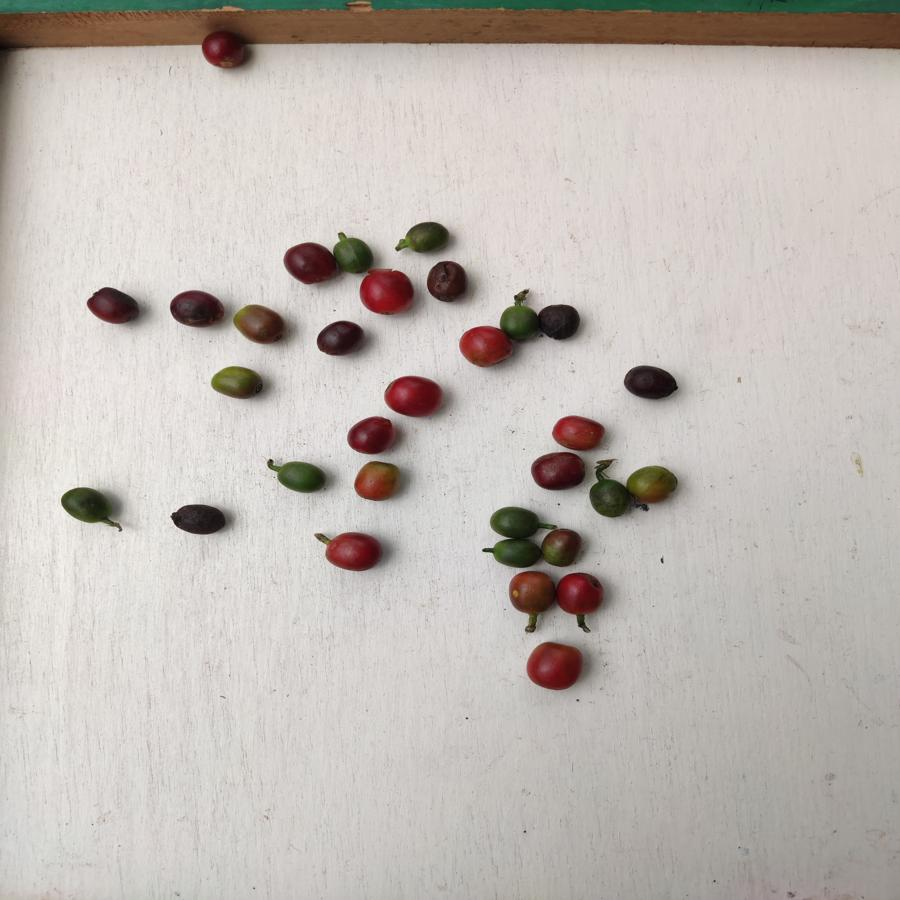Inmaduro: (60, 487, 114, 527), (273, 460, 328, 496), (330, 236, 374, 276), (486, 538, 540, 570), (588, 477, 628, 520), (403, 220, 451, 255), (489, 505, 538, 538), (498, 304, 538, 343)
Maduro: (523, 641, 588, 699), (358, 268, 418, 319), (323, 528, 383, 578), (386, 374, 446, 420), (455, 323, 504, 373), (558, 569, 604, 617), (550, 413, 605, 452), (346, 414, 396, 455)
Pinton: (208, 360, 269, 403), (231, 304, 292, 347), (626, 463, 683, 505), (509, 569, 558, 617), (354, 461, 403, 503), (539, 527, 585, 568)
Sobremaduro: (88, 283, 142, 328), (533, 448, 588, 492), (284, 238, 333, 287), (624, 363, 681, 403), (168, 289, 223, 330), (198, 29, 248, 71), (168, 501, 228, 536), (314, 320, 364, 360), (423, 260, 468, 304), (538, 302, 581, 345)
